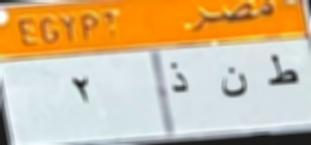2: (64, 71, 102, 115)
Taa: (266, 50, 300, 98)
noon: (215, 59, 252, 108)
zaal: (163, 58, 199, 104)
